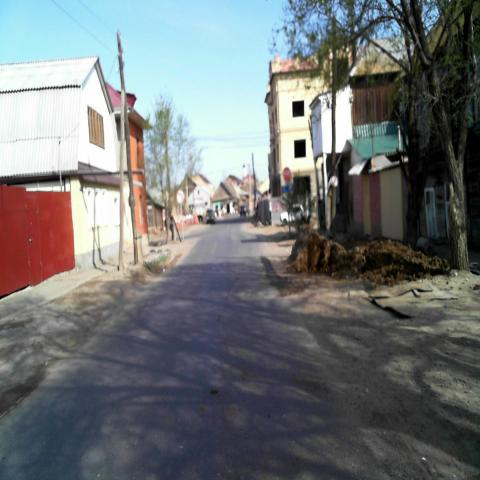3_18_2: (176, 189, 186, 203)
